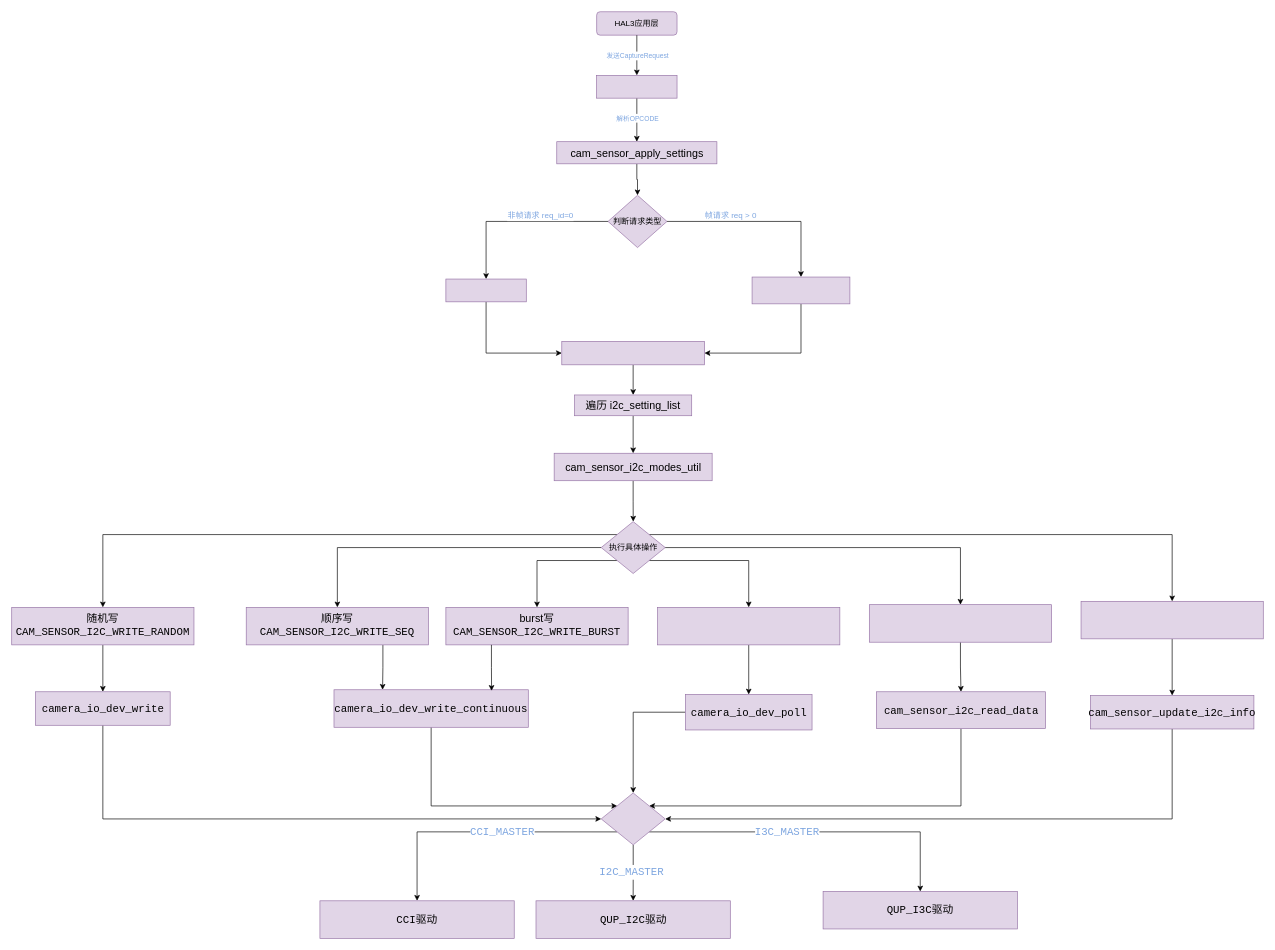
The diagram is 1275 pixels wide and 950 high, and some of its shapes have lost their labels. The shapes that lost their labels are listed below. From the top down, each one's box as (x1, y1, x2, y2) in pixels, then its label:
(596, 75, 677, 98): CAMX框架
(445, 278, 526, 302): 选择静态设置 stream/init/config
(751, 276, 850, 304): 选择动态每帧设置 per_frame/frame_skip
(561, 341, 705, 365): 获取 i2c_settings_array
(657, 607, 840, 645): 轮询 CAM_SENSOR_I2C_POLL
(869, 604, 1052, 642): 随机读 CAM_SENSOR_I2C_READ_RANDOM
(1080, 601, 1263, 639): 设置slave信息 CAM_SENSOR_I2C_SET_I2C_INFO
(601, 792, 665, 845): 选择物理通道
